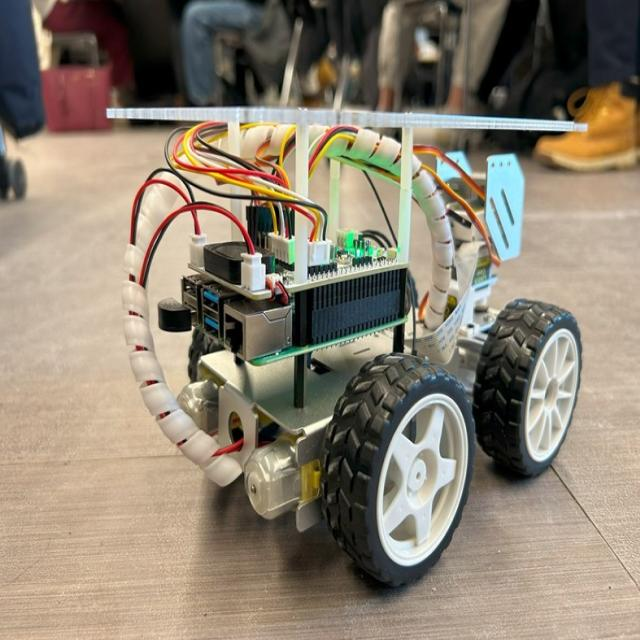vehicle: (88, 87, 591, 601)
